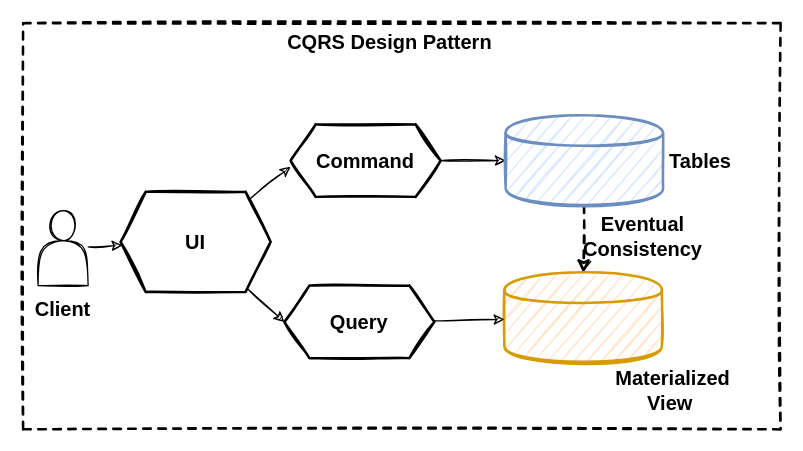
Some shapes in this 803 by 451 pixel diagram are drawn without their labels. Here are the shapes that lost their labels. From the top down, the centre of each, then its label:
At pixel 584 160: "Write Database".
At pixel 582 317: "Read Database".
